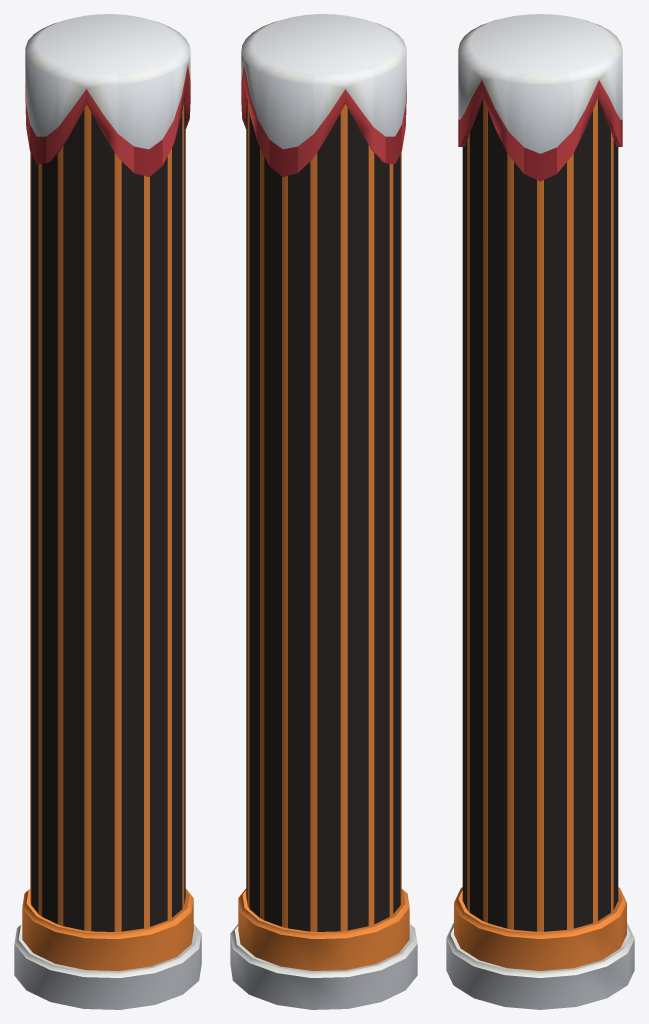
File: coluna_listrada_cassino_pacote.glb
3 views of the same model, side by side, from view 1: azimuth 30°, elevation 25°; view 2: azimuth 150°, elevation 25°; view 3: azimuth 270°, elevation 25° (orthographic).
Parts seen in each view (by area): view 1: coluna_listrada_cassino_pacote; view 2: coluna_listrada_cassino_pacote; view 3: coluna_listrada_cassino_pacote.
Boxes of the visible parts, box(x1,y1,x2,y2) form: coluna_listrada_cassino_pacote: box(14, 14, 201, 1009); coluna_listrada_cassino_pacote: box(230, 14, 417, 1009); coluna_listrada_cassino_pacote: box(446, 14, 634, 1009).
Bounding box in the file's own units: 0.4985 × 2.7 × 0.4985.
1 material, 1 textured.
